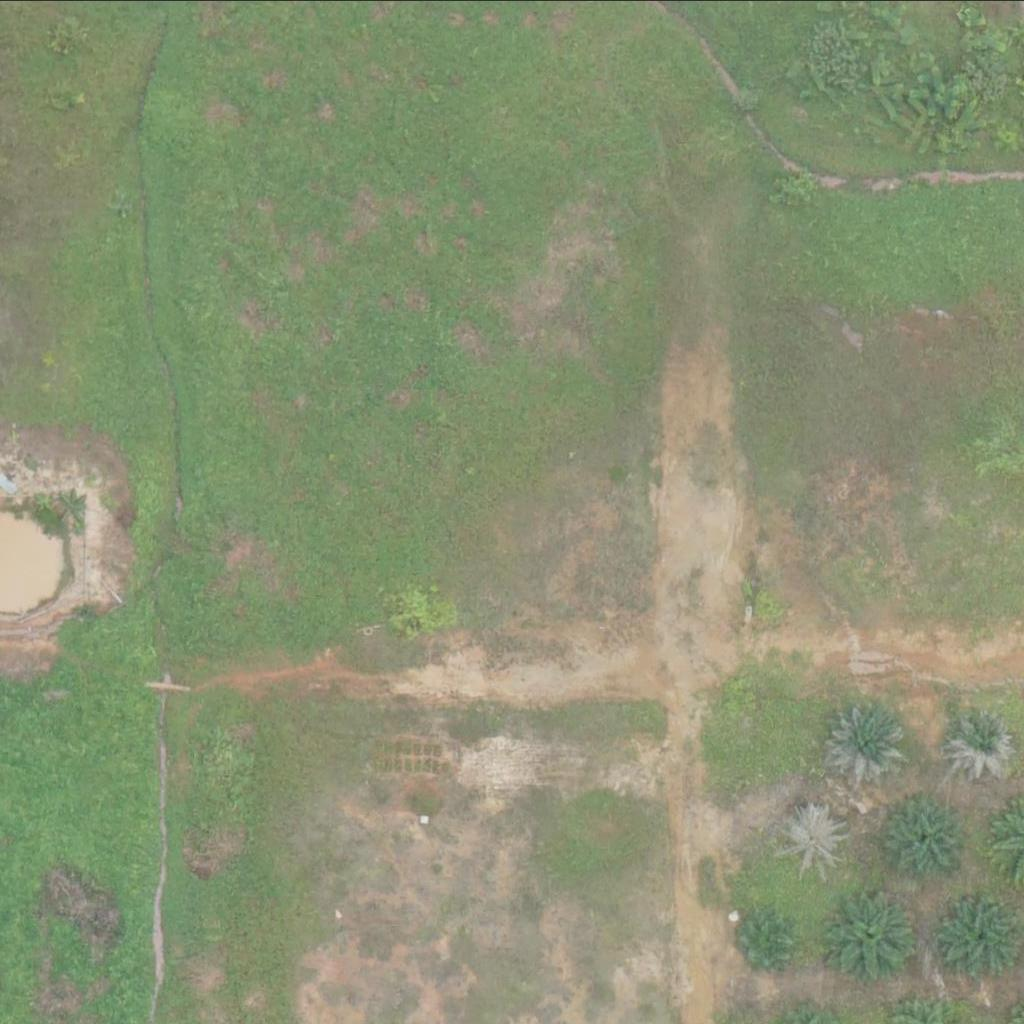Kelapa_Sawit: (822, 883, 922, 983), (876, 784, 976, 884), (824, 700, 912, 788), (775, 802, 851, 877), (945, 701, 1021, 776), (735, 911, 797, 973)
